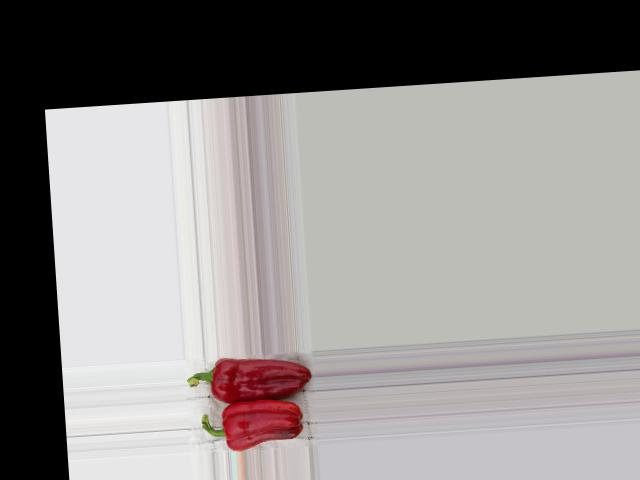bell_pepper: (182, 353, 313, 407)
